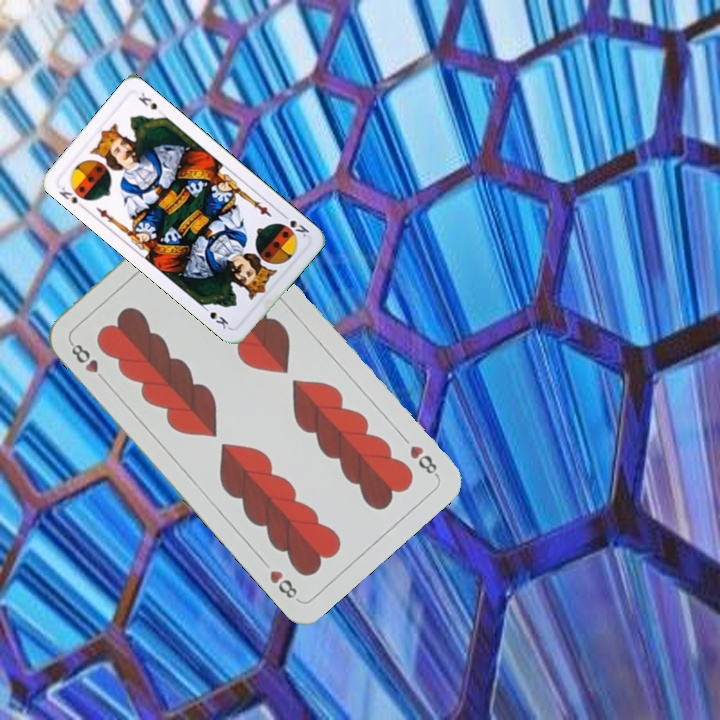H8: (66, 337, 110, 386), (406, 441, 441, 480)
SK: (277, 209, 312, 240), (55, 183, 88, 212)
